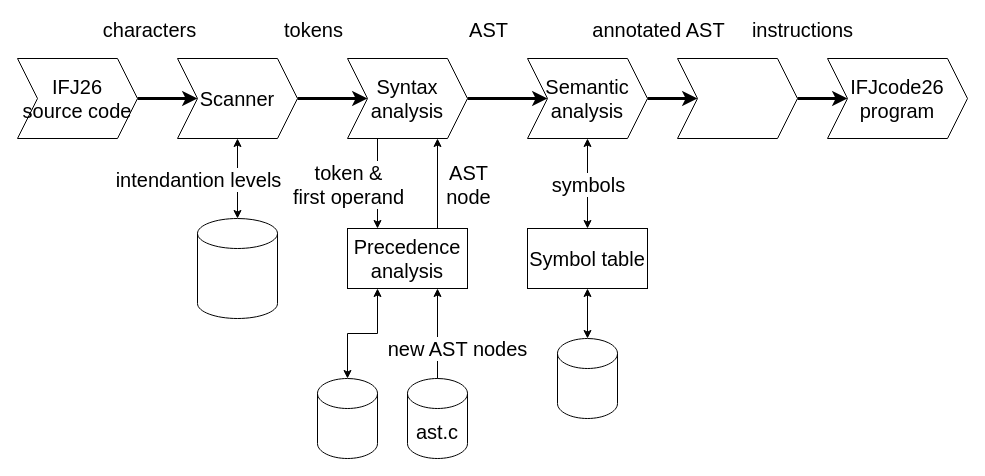
Image size: 985x476. Some labels were removed from this diagram. Each missing label, with the box of its shape:
Code generator: (676, 58, 798, 138)
Hash table: (556, 338, 618, 418)
Scanner stack: (196, 218, 278, 318)
Stack: (316, 378, 378, 458)
